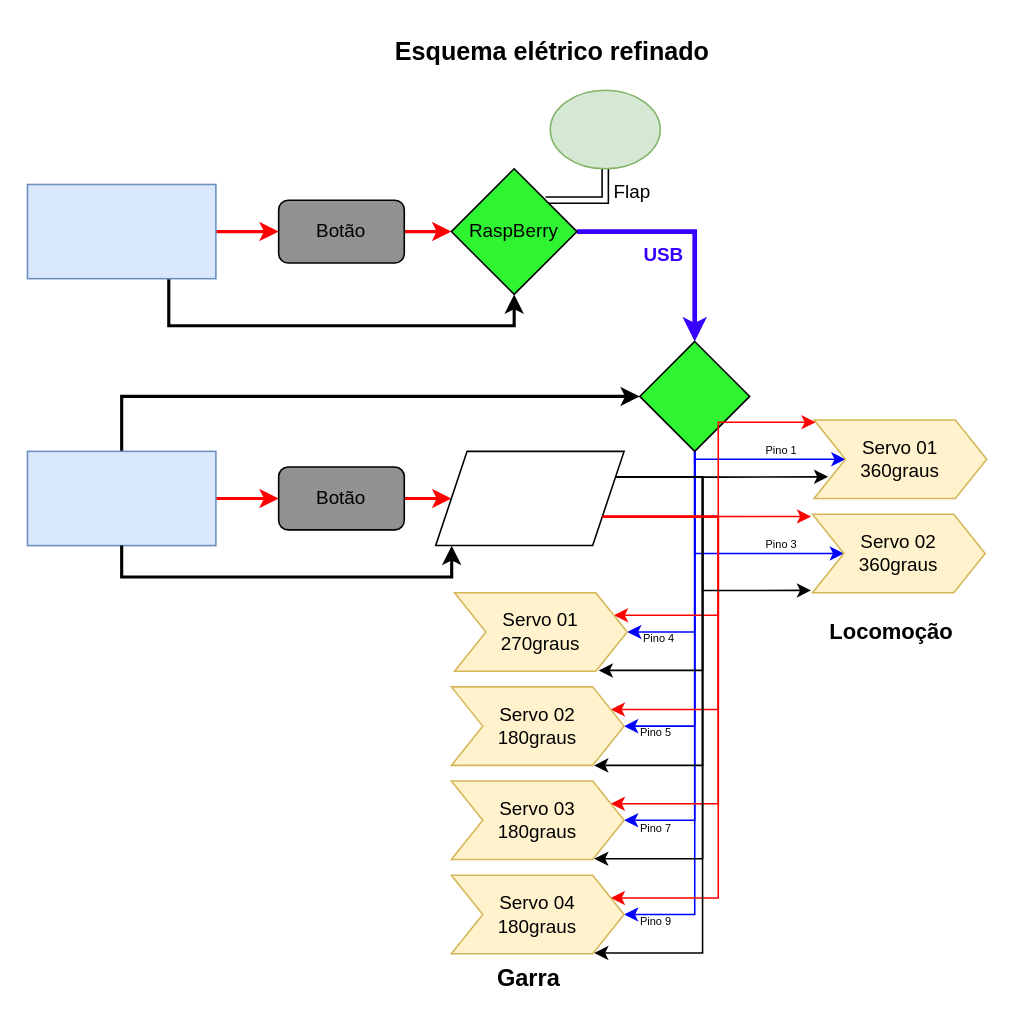
Image size: 1014x1027. Some labels were removed from this diagram. The centre of each missing label's shape, as x and y in pixels:
Bateria 01 8.4V - 7.5mHA: the point at 121,231
Bateria 02 8.4V - 5.2mHA: the point at 121,498
Câmera: the point at 604,129
Esp 32: the point at 694,395
PCB Com capacitor eletrolítico e cerâmico: the point at 529,498
